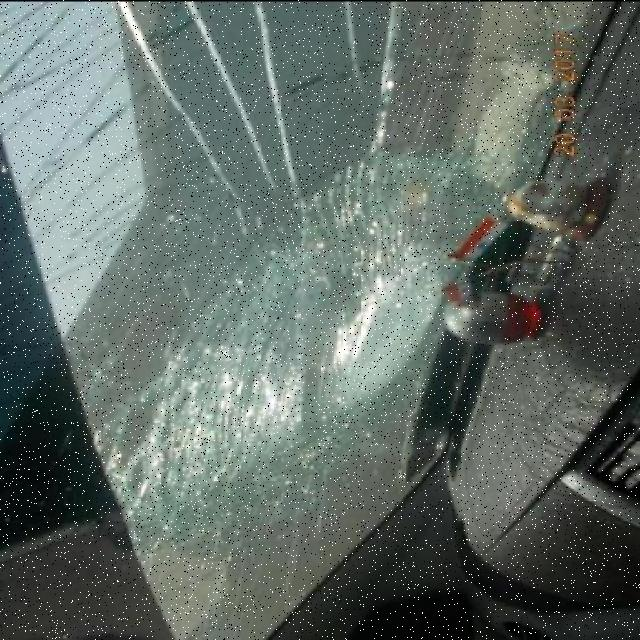damage: (118, 0, 525, 542)
